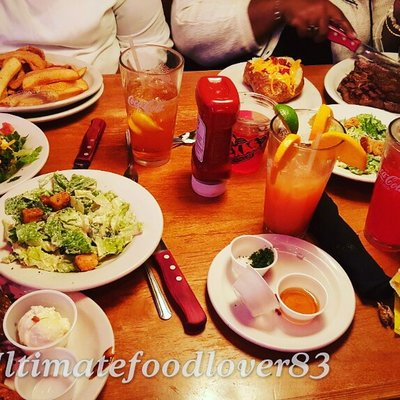curry: (44, 207, 92, 255)
pizza: (262, 132, 341, 237), (119, 44, 184, 169), (362, 118, 400, 254), (273, 273, 327, 325)
sandwich: (153, 238, 207, 335), (72, 119, 106, 170), (146, 261, 172, 321)
sushi: (2, 290, 78, 355), (0, 112, 49, 198), (230, 235, 278, 277)
